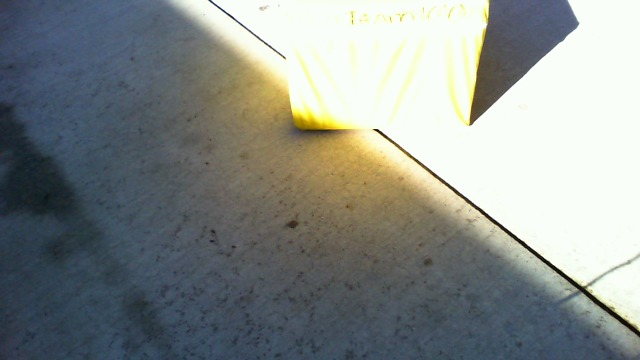cube: (284, 1, 491, 135)
